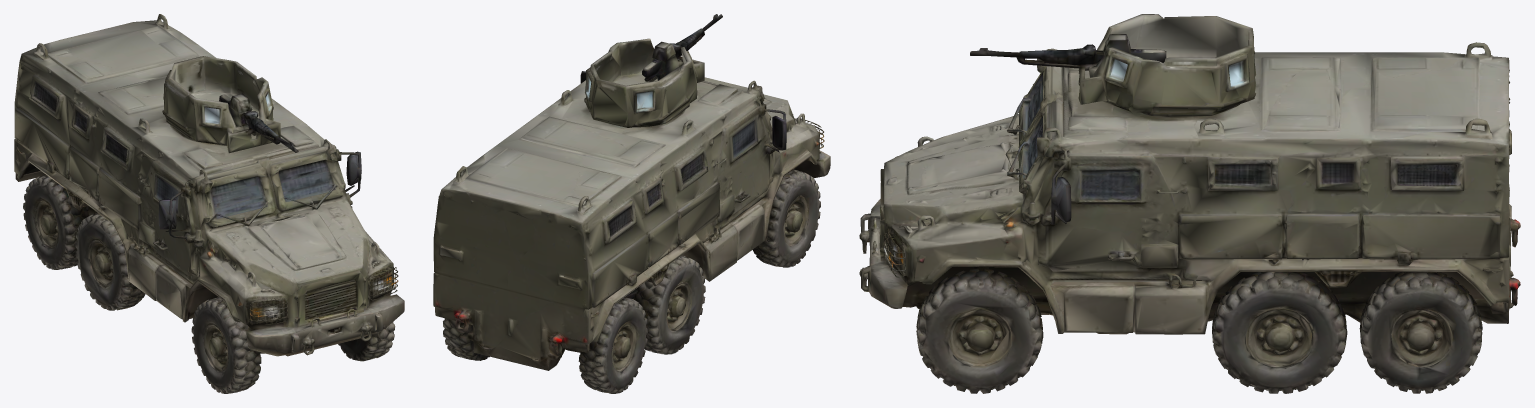
3 renders of one model, left to right at view 1: azimuth 30°, elevation 25°; view 2: azimuth 150°, elevation 25°; view 3: azimuth 270°, elevation 25°, orthographic. The views are drawn at different scales.
Visible parts, largest first — view 1: node_0; view 2: node_0; view 3: node_0.
Part boxes in pixels (box(x1,y1,x2,y2)): node_0: box(14, 14, 404, 393); node_0: box(433, 14, 830, 393); node_0: box(859, 14, 1520, 393).
Size of the model in its own units: 0.5227 by 0.5852 by 1.14.
1 material, 1 textured.
